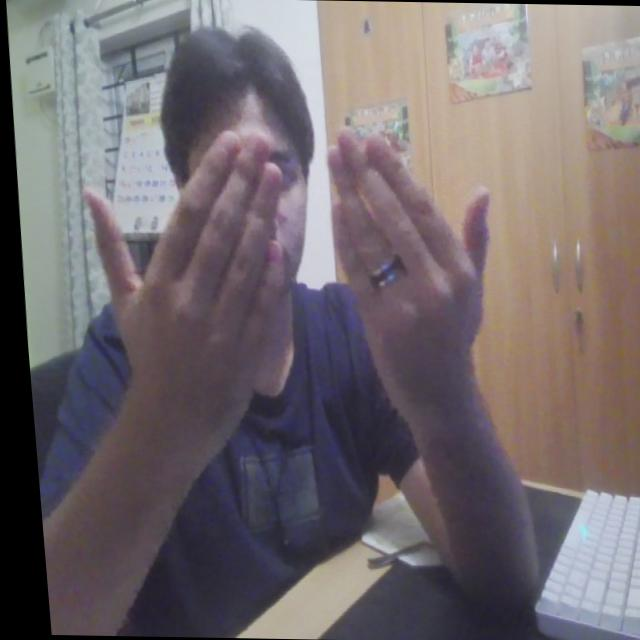thankyou: (65, 116, 520, 470)
